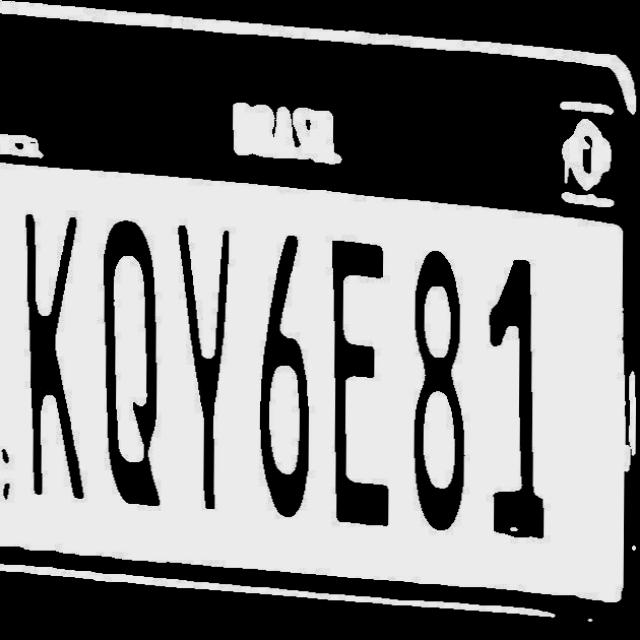1: (483, 254, 550, 545)
6: (252, 231, 317, 524)
8: (407, 248, 474, 536)
e: (325, 235, 398, 532)
k: (19, 209, 90, 510)
q: (93, 215, 166, 513)
y: (169, 217, 238, 516)
